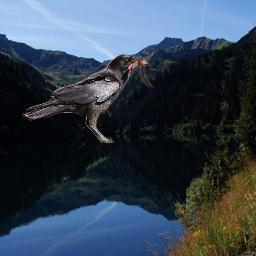Crow: (22, 51, 159, 143)
